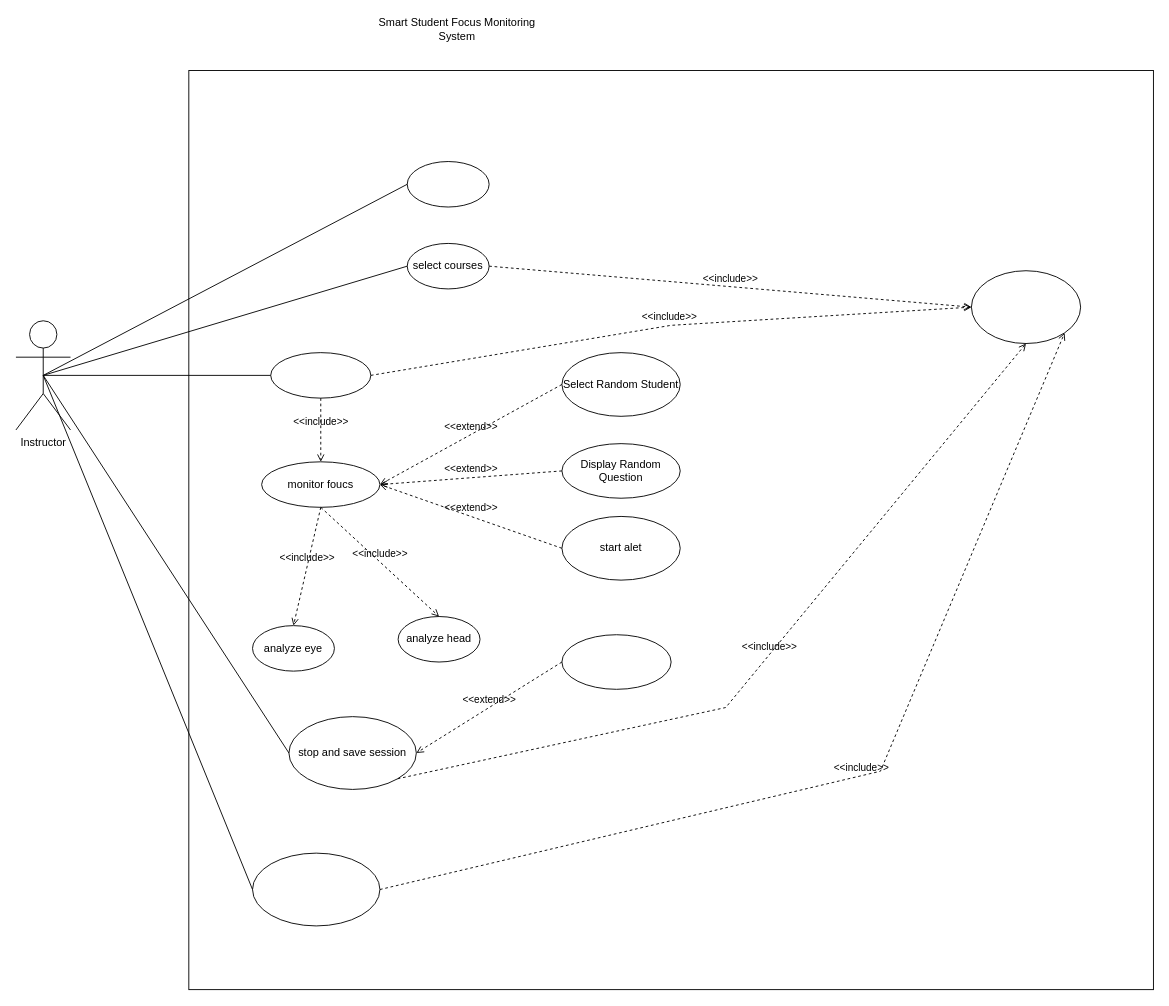
This 1169x1006 diagram has some shape labels left out. The shapes that lost their labels are listed below. From the top down, each one's centre as x and y in pixels, then its label:
the point at 447,184: Signup
the point at 1026,307: Login
the point at 320,375: start monitoring
the point at 616,661: view details
the point at 316,889: view histprical data
